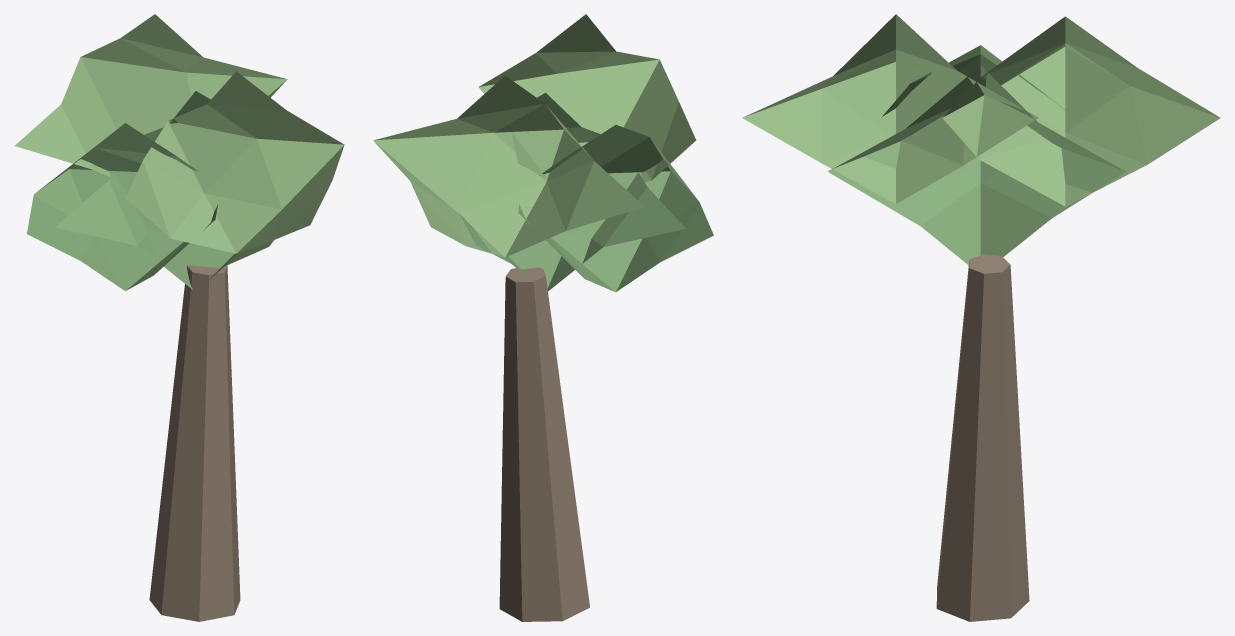
File: broadleaf_v12.glb
3 views of the same model, side by side, from view 1: azimuth 30°, elevation 25°; view 2: azimuth 150°, elevation 25°; view 3: azimuth 270°, elevation 25° (orthographic). The views are drawn at different scales.
Visible parts, largest first — view 1: lod0; view 2: lod0; view 3: lod0.
Part boxes in pixels (<box>): lod0: <box>15,14,344,621</box>; lod0: <box>373,14,713,621</box>; lod0: <box>742,14,1220,621</box>.
Size of what is drawn, in the model's own units: 2.68 by 4.79 by 3.53.
